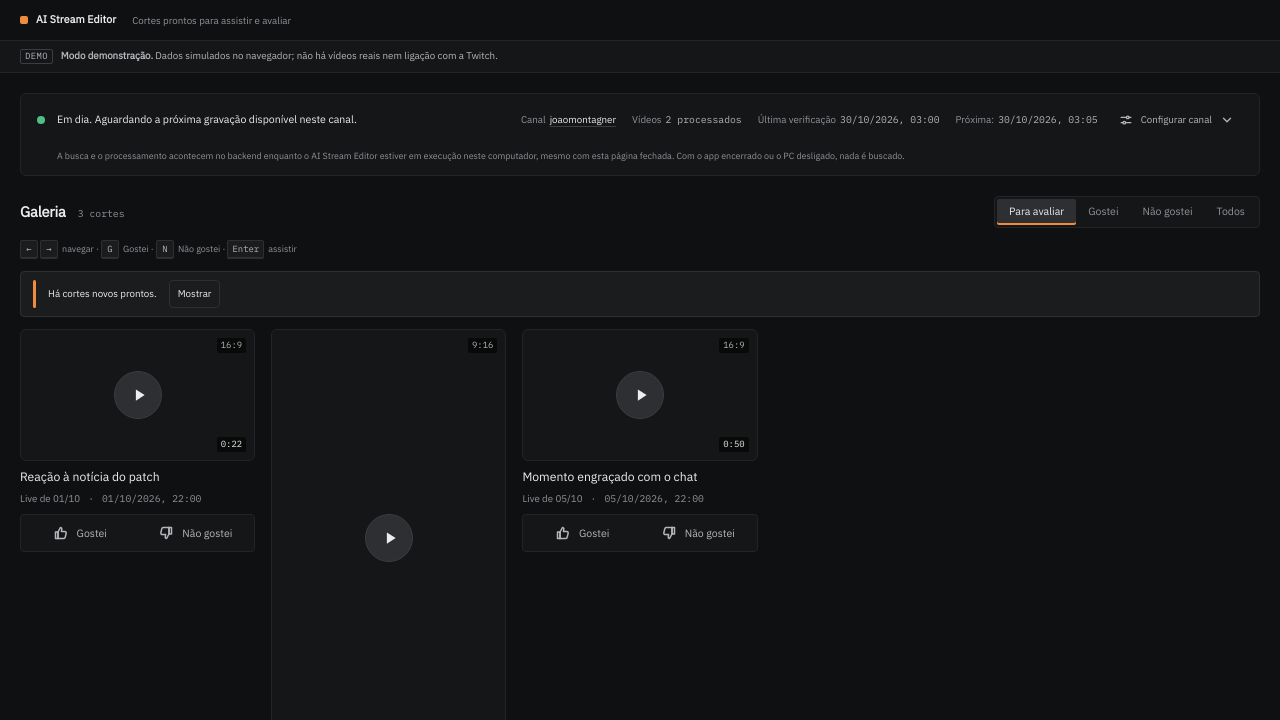
Test: Galeria: cortes e avaliação › render novo (gallery_updated_at) com a lista cheia gera aviso, sem reordenar
This screenshot has width=1280, height=720.
Expected: the text "Há cortes novos prontos." is shown, x1=48 y1=287 x2=157 y2=301
What coordinates should you click on to do the following:
click the button "Mostrar"
I would click on:
 (194, 294)
Its box is x1=169 y1=280 x2=220 y2=308.
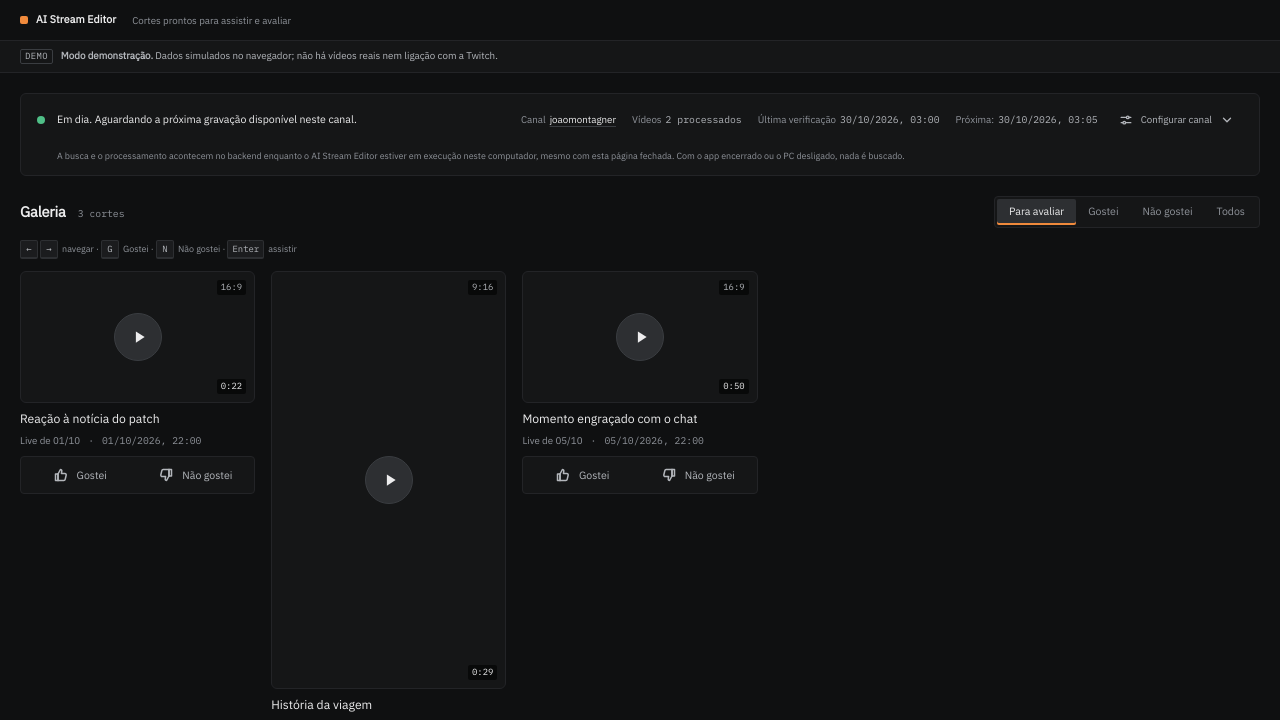
Result: the text "Há cortes novos prontos." is gone
